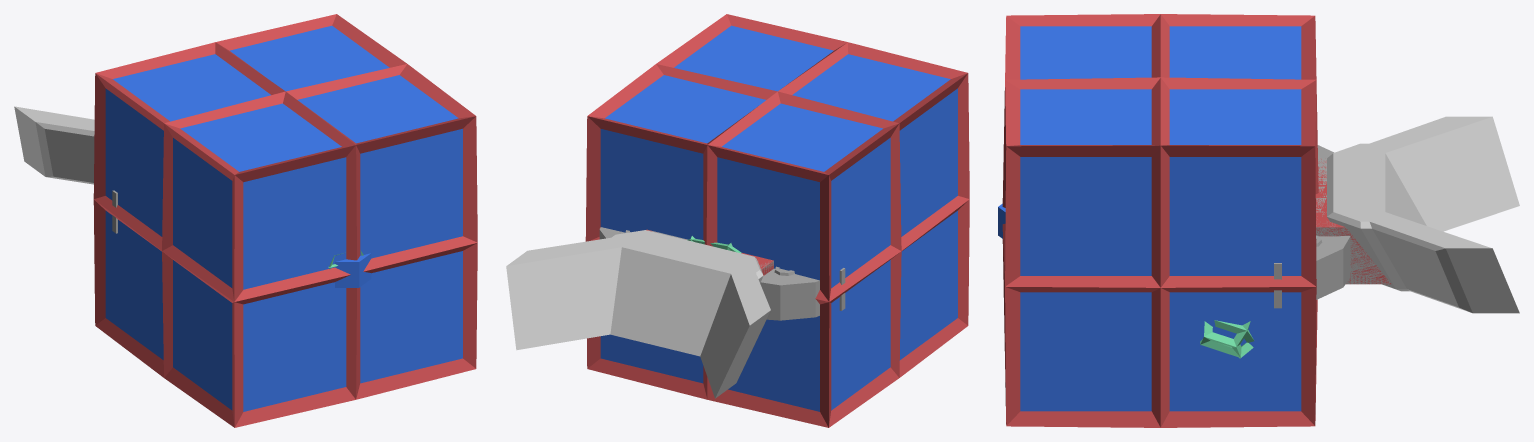
The model's file is Tools.fbx.
3 renders of one model, left to right at view 1: azimuth 30°, elevation 25°; view 2: azimuth 150°, elevation 25°; view 3: azimuth 270°, elevation 25°, orthographic. The views are drawn at different scales.
Parts seen in each view (by area): view 1: Cube_object, Negative_cube_object, Base_Object_001, Stroke_object; view 2: Cube_object, Negative_cube_object, Base_Object_001, Paintbrush_object; view 3: Cube_object, Negative_cube_object, Base_Object_001, Paintbrush_object, subdiv_object_001, Eraser_object, Hand_Copy_object.
Part boxes in pixels (left/top/right/bottom): Cube_object: left=105, top=25, right=462, bottom=411; Negative_cube_object: left=93, top=14, right=477, bottom=427; Base_Object_001: left=14, top=106, right=94, bottom=184; Stroke_object: left=335, top=253, right=371, bottom=287; Cube_object: left=600, top=25, right=957, bottom=411; Negative_cube_object: left=585, top=14, right=969, bottom=427; Base_Object_001: left=506, top=230, right=770, bottom=398; Paintbrush_object: left=599, top=227, right=845, bottom=320; Cube_object: left=1020, top=26, right=1301, bottom=411; Negative_cube_object: left=1002, top=14, right=1318, bottom=427; Base_Object_001: left=1327, top=116, right=1519, bottom=313; Paintbrush_object: left=1274, top=145, right=1350, bottom=308; subdiv_object_001: left=1316, top=158, right=1389, bottom=284; Eraser_object: left=1315, top=159, right=1390, bottom=284; Hand_Copy_object: left=1200, top=320, right=1254, bottom=358.
Size of the model in its own units: 5.86 by 5.72 by 9.43.
